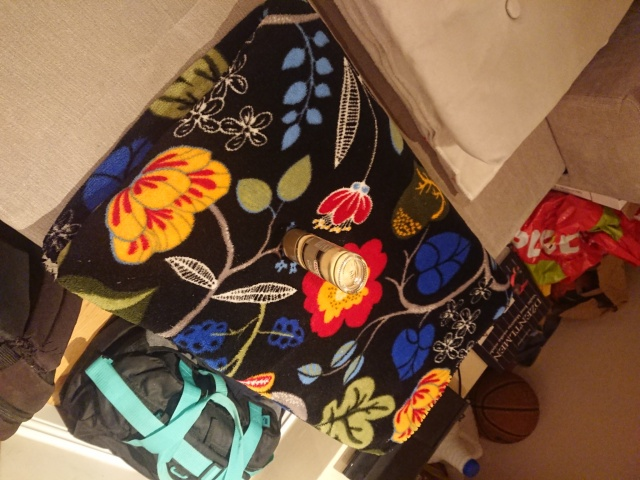Kotanyi Garlic Granules 70g: (280, 225, 369, 296)
